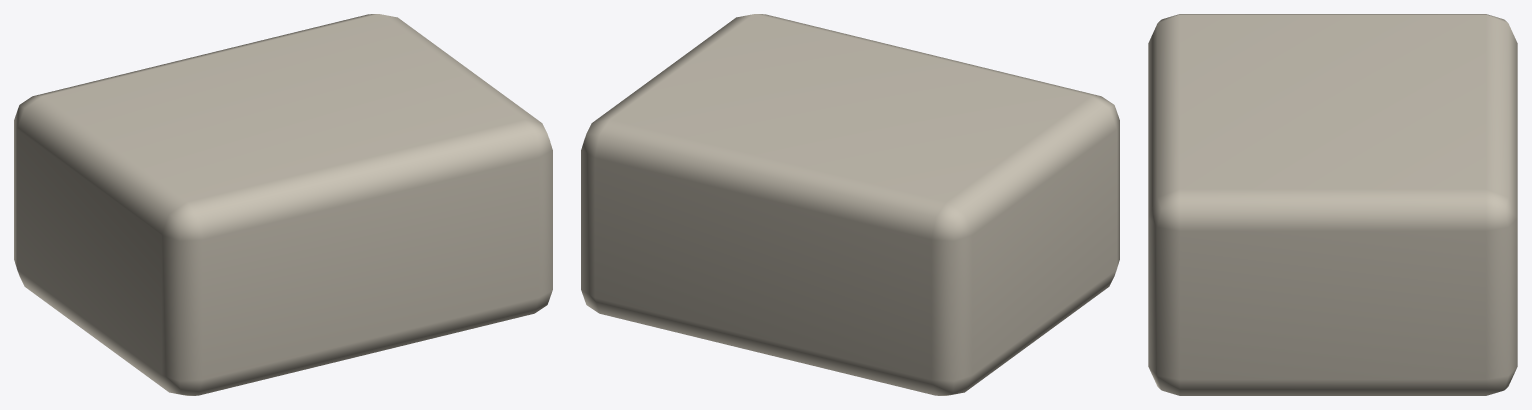
Rendered from ikea_kivik_ottoman_79440497.glb.
3 views of the same model, side by side, from view 1: azimuth 30°, elevation 25°; view 2: azimuth 150°, elevation 25°; view 3: azimuth 270°, elevation 25° (orthographic). The views are drawn at different scales.
Visible parts, largest first — view 1: ottoman.001; view 2: ottoman.001; view 3: ottoman.001.
Part boxes in pixels (x1,y1,x2,y2): ottoman.001: [14, 14, 552, 395]; ottoman.001: [581, 14, 1119, 395]; ottoman.001: [1148, 14, 1517, 395].
Bounding box in the file's own units: 0.9 × 0.43 × 0.7.
